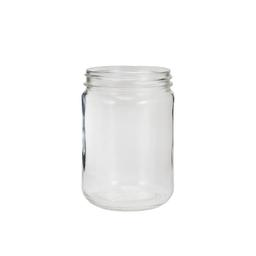glass: (67, 53, 188, 222)
